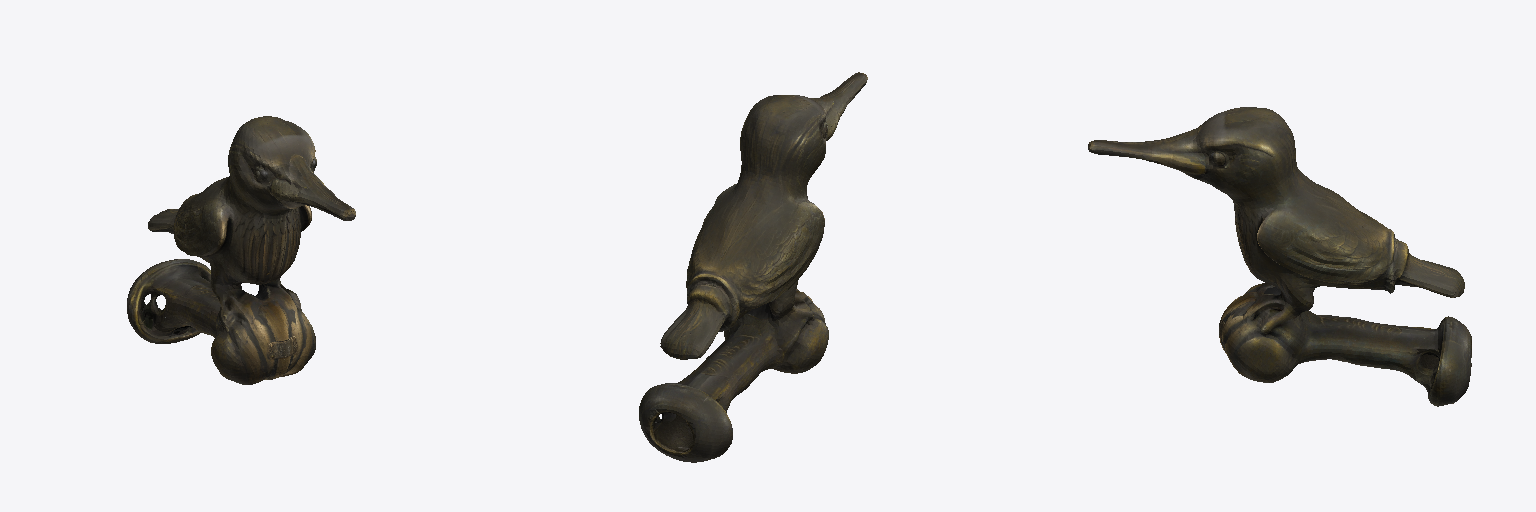
3 renders of one model, left to right at view 1: azimuth 30°, elevation 25°; view 2: azimuth 150°, elevation 25°; view 3: azimuth 270°, elevation 25°, orthographic.
Visible parts, largest first — view 1: Perched_Bronze_Bird_H_[number redacted]_texture; view 2: Perched_Bronze_Bird_H_[number redacted]_texture; view 3: Perched_Bronze_Bird_H_[number redacted]_texture.
Boxes of the visible parts, box(x1,y1,x2,y2) form: Perched_Bronze_Bird_H_[number redacted]_texture: box(127, 116, 355, 384); Perched_Bronze_Bird_H_[number redacted]_texture: box(639, 72, 867, 462); Perched_Bronze_Bird_H_[number redacted]_texture: box(1088, 107, 1471, 406).
Bounding box in the file's own units: 0.6215 × 1.65 × 2.
Materials: 1 (1 with a texture image).